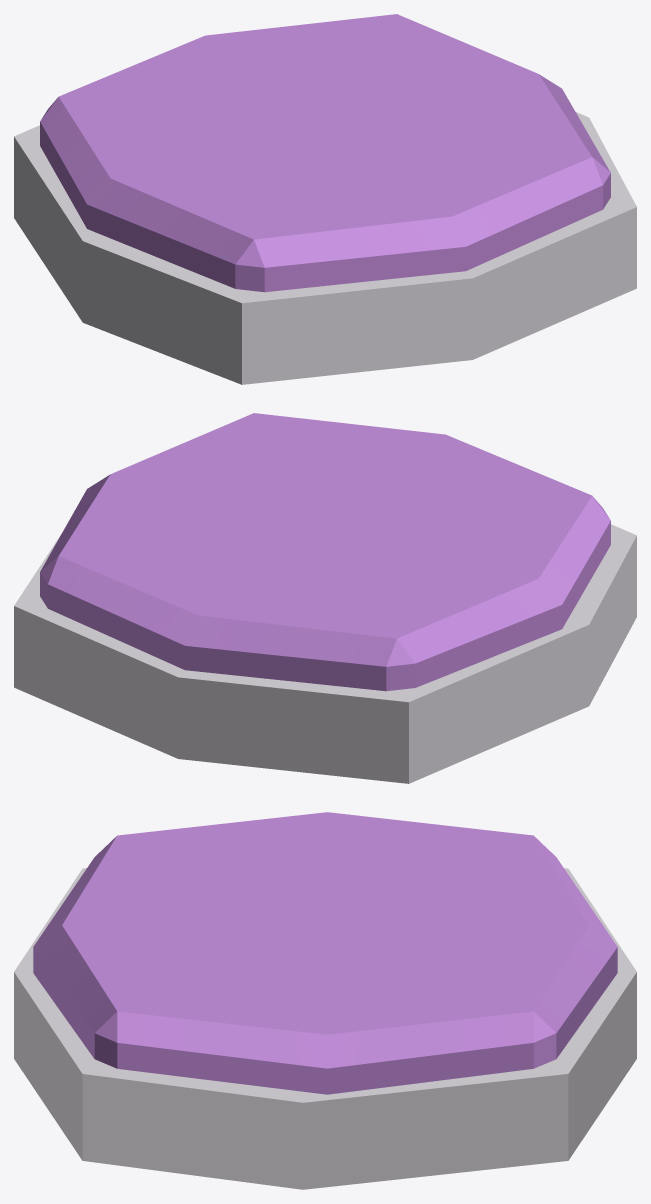
File: weight-plate-purple-idleDOWN.fbx
The picture shows the model from 3 angles, top to bottom: view 1: azimuth 30°, elevation 25°; view 2: azimuth 150°, elevation 25°; view 3: azimuth 270°, elevation 25°; orthographic projection. The views are drawn at different scales.
Visible parts, largest first — view 1: weight_plate, weight_plate_base; view 2: weight_plate, weight_plate_base; view 3: weight_plate, weight_plate_base.
Part boxes in pixels (left/top/right/bottom): weight_plate: left=40, top=14, right=610, bottom=292; weight_plate_base: left=14, top=112, right=636, bottom=384; weight_plate: left=40, top=413, right=610, bottom=691; weight_plate_base: left=14, top=524, right=636, bottom=783; weight_plate: left=33, top=812, right=617, bottom=1094; weight_plate_base: left=14, top=868, right=636, bottom=1189.
Bounding box in the file's own units: 4.1 × 0.9786 × 4.1.
Materials: 2 (2 with a texture image).
